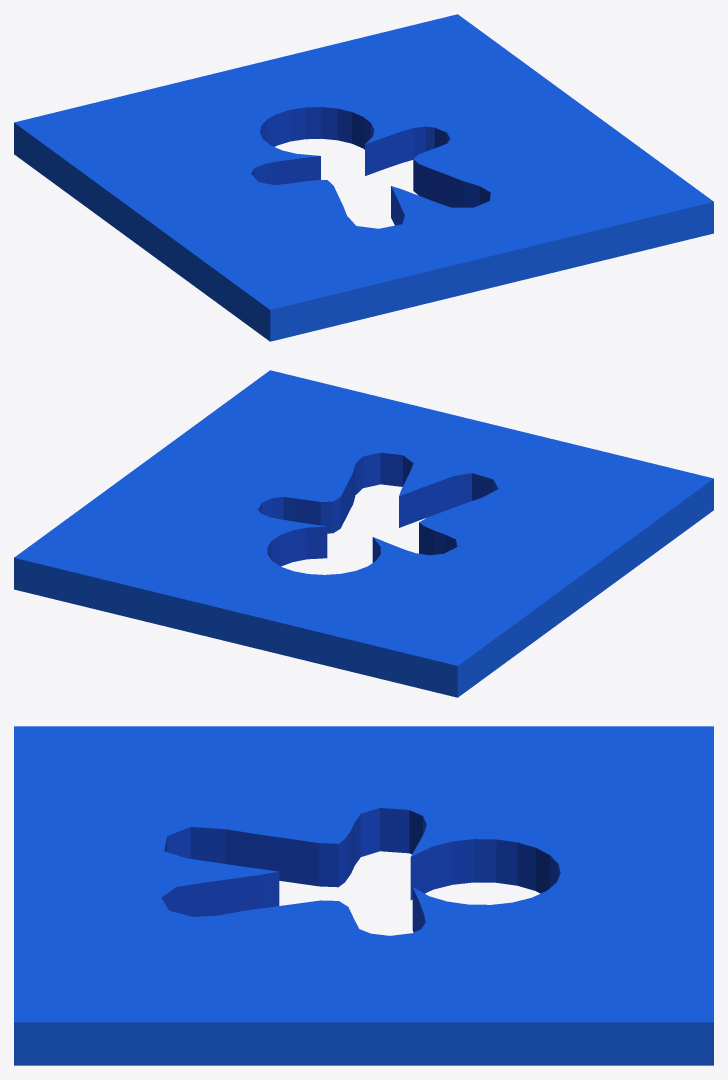
The model's file is CubeCookieMan.fbx.
The picture shows the model from 3 angles, top to bottom: view 1: azimuth 30°, elevation 25°; view 2: azimuth 150°, elevation 25°; view 3: azimuth 270°, elevation 25°; orthographic projection. The views are drawn at different scales.
Visible parts, largest first — view 1: Cube.001; view 2: Cube.001; view 3: Cube.001.
Part boxes in pixels (left/top/right/bottom): Cube.001: left=14, top=14, right=713, bottom=341; Cube.001: left=14, top=370, right=713, bottom=697; Cube.001: left=14, top=726, right=713, bottom=1065.
Size of the model in its own units: 4.26 by 0.291 by 4.26.
